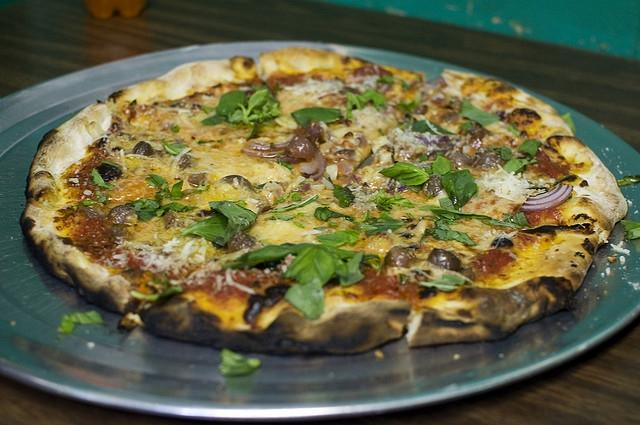mushroom: (384, 246, 424, 268), (426, 248, 461, 272), (298, 152, 326, 182), (227, 231, 258, 254), (284, 137, 314, 159), (471, 148, 502, 168), (222, 175, 256, 192), (95, 164, 124, 182), (108, 204, 132, 225), (448, 152, 473, 168), (326, 148, 356, 160), (132, 141, 154, 156), (163, 209, 177, 230), (188, 173, 207, 187), (362, 80, 377, 89)
onion: (519, 184, 573, 212), (171, 148, 191, 174), (253, 142, 290, 152), (426, 119, 445, 135), (182, 240, 194, 258), (288, 176, 306, 188), (413, 220, 427, 234), (326, 165, 338, 181), (299, 229, 323, 236), (262, 135, 276, 139), (492, 178, 502, 182)
